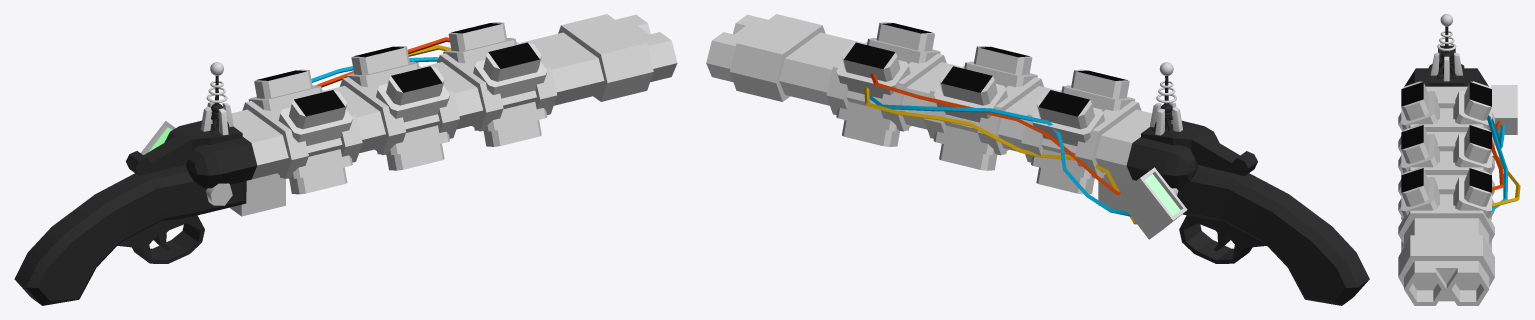
The model's file is pompa.fbx.
3 views of the same model, side by side, from view 1: azimuth 30°, elevation 25°; view 2: azimuth 150°, elevation 25°; view 3: azimuth 270°, elevation 25° (orthographic). The views are drawn at different scales.
Parts seen in each view (by area): view 1: PompaChild; view 2: PompaChild; view 3: PompaChild.
Boxes of the visible parts, x1,y1,x2,y2 form: PompaChild: (14,14,677,305); PompaChild: (706,14,1369,305); PompaChild: (1398,14,1520,305).
Bounding box in the file's own units: 75.44 × 22.46 × 13.87.
